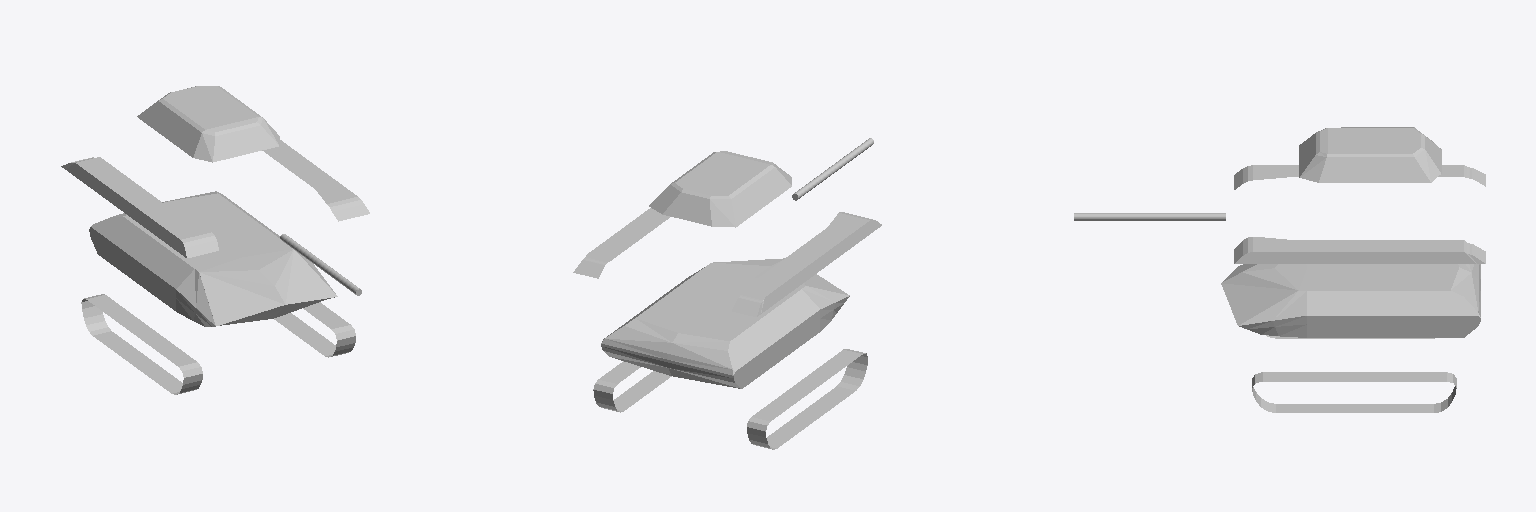
Rendered from MultiOneMesh.obj.
The picture shows the model from 3 angles: view 1: azimuth 30°, elevation 25°; view 2: azimuth 150°, elevation 25°; view 3: azimuth 270°, elevation 25°; orthographic projection.
Parts seen in each view (by area): view 1: Cube_Cube, Cube.002_Cube.002, Cube.001_Cube.001, Cube.003_Cube.003, Cylinder_Cylinder; view 2: Cube_Cube, Cube.001_Cube.001, Cube.002_Cube.002, Cube.003_Cube.003, Cylinder_Cylinder; view 3: Cube_Cube, Cube.002_Cube.002, Cube.001_Cube.001, Cube.003_Cube.003, Cylinder_Cylinder.
Boxes of the visible parts, x1=… form: Cube_Cube: x1=89, y1=191, x2=337, y2=326; Cube.002_Cube.002: x1=61, y1=140, x2=369, y2=257; Cube.001_Cube.001: x1=137, y1=86, x2=279, y2=162; Cube.003_Cube.003: x1=81, y1=294, x2=355, y2=394; Cylinder_Cylinder: x1=280, y1=234, x2=361, y2=295; Cube_Cube: x1=601, y1=258, x2=849, y2=388; Cube.001_Cube.001: x1=649, y1=151, x2=791, y2=227; Cube.002_Cube.002: x1=573, y1=208, x2=881, y2=316; Cube.003_Cube.003: x1=593, y1=349, x2=867, y2=449; Cylinder_Cylinder: x1=792, y1=138, x2=873, y2=200; Cube_Cube: x1=1221, y1=264, x2=1480, y2=337; Cube.002_Cube.002: x1=1234, y1=165, x2=1485, y2=263; Cube.001_Cube.001: x1=1299, y1=127, x2=1441, y2=182; Cube.003_Cube.003: x1=1252, y1=335, x2=1456, y2=412; Cylinder_Cylinder: x1=1074, y1=213, x2=1225, y2=220.
Bounding box in the file's own units: 313 × 375 × 608.